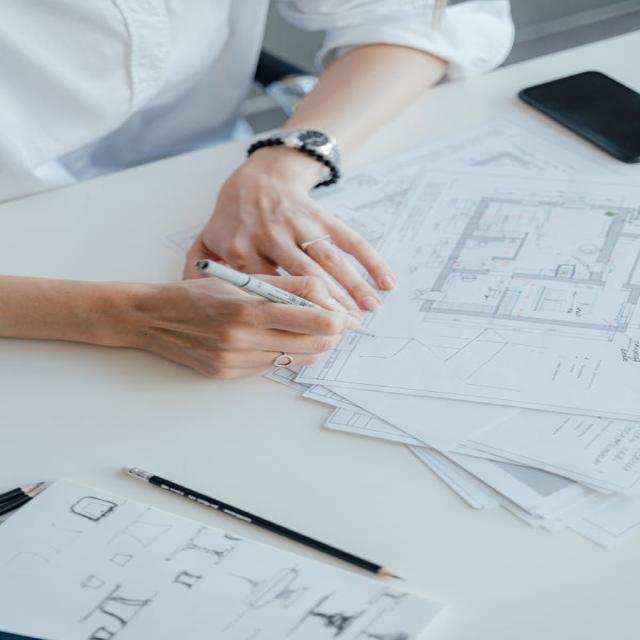pen: (89, 452, 437, 594), (185, 244, 404, 344)
